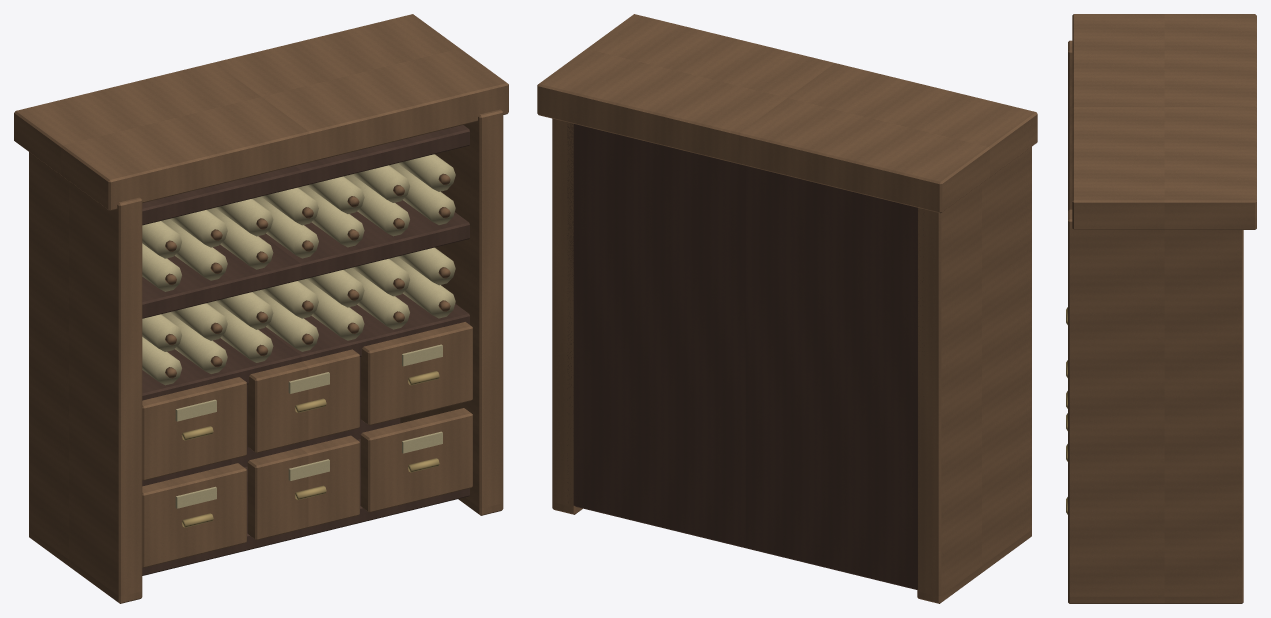
The model's file is scroll_cabinet.glb.
3 renders of one model, left to right at view 1: azimuth 30°, elevation 25°; view 2: azimuth 150°, elevation 25°; view 3: azimuth 270°, elevation 25°, orthographic. The views are drawn at different scales.
Visible parts, largest first — view 1: Scripture_CarvedWood, Scripture_Paper, Scripture_Timber, Scripture_Bronze; view 2: Scripture_Timber, Scripture_CarvedWood; view 3: Scripture_CarvedWood.
Part boxes in pixels (x1,y1,x2,y2): Scripture_CarvedWood: (14,14,508,603); Scripture_Paper: (142,154,455,508); Scripture_Timber: (142,125,469,575); Scripture_Bronze: (181,371,439,527); Scripture_Timber: (567,122,922,589); Scripture_CarvedWood: (537,14,1037,603); Scripture_CarvedWood: (1068,14,1256,603).
Size of the model in its own units: 2.02 by 2.05 by 0.868.
Materials: 4 (3 with a texture image).
